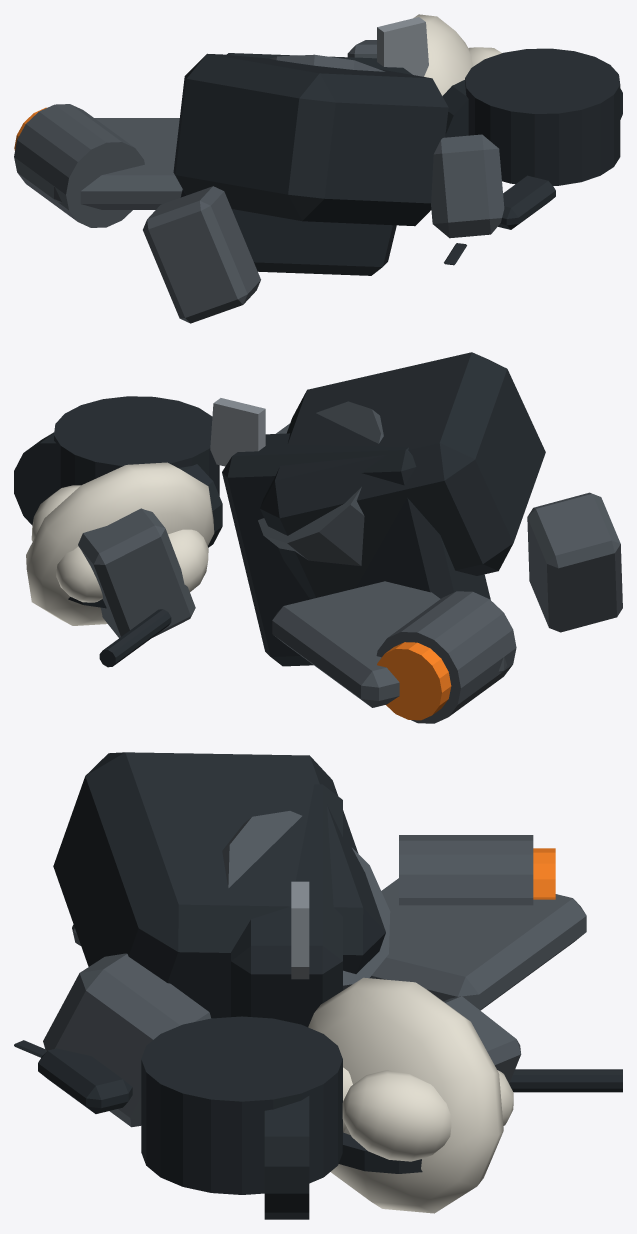
Rendered from Chef_Wreckage.fbx.
The picture shows the model from 3 angles, top to bottom: view 1: azimuth 30°, elevation 25°; view 2: azimuth 150°, elevation 25°; view 3: azimuth 270°, elevation 25°; orthographic projection. The views are drawn at different scales.
Parts seen in each view (by area): view 1: Chef_Wreckage; view 2: Chef_Wreckage; view 3: Chef_Wreckage.
Part boxes in pixels (box(x1,y1,x2,y2)): Chef_Wreckage: box(14, 14, 622, 323); Chef_Wreckage: box(14, 352, 622, 723); Chef_Wreckage: box(14, 752, 622, 1219).
Bounding box in the file's own units: 171 × 83.57 × 136.
